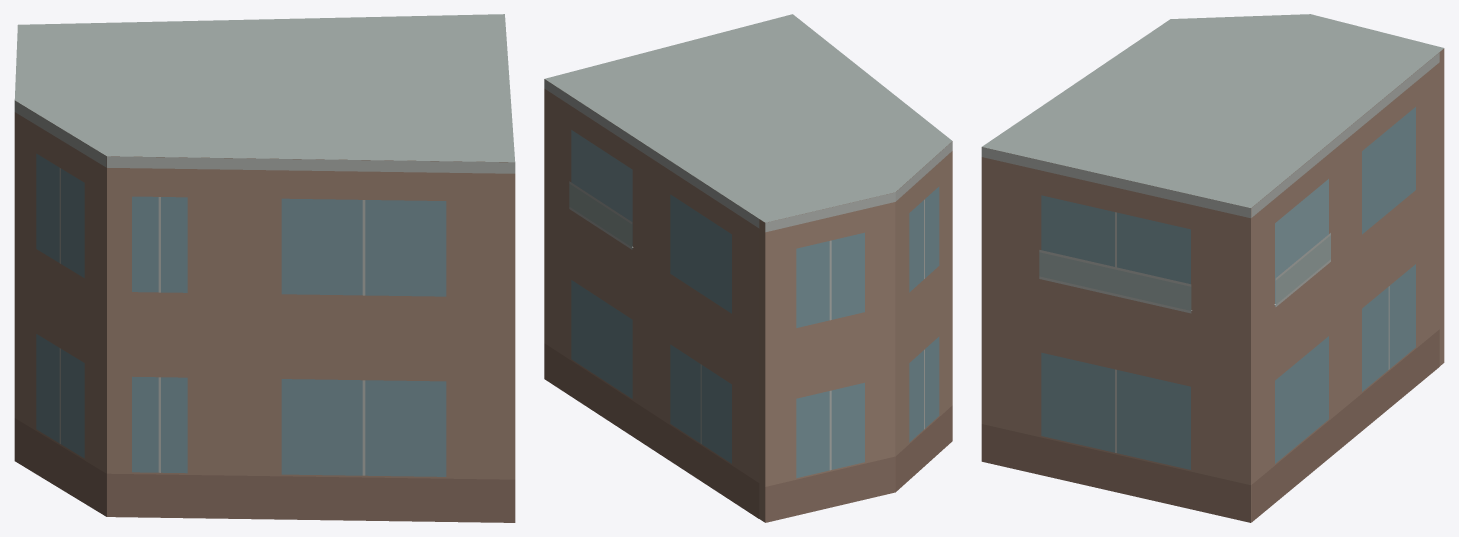
File: survey-upis-32615647.glb
3 renders of one model, left to right at view 1: azimuth 30°, elevation 25°; view 2: azimuth 150°, elevation 25°; view 3: azimuth 270°, elevation 25°, orthographic. The views are drawn at different scales.
Parts seen in each view (by area): view 1: survey-upis-32615647.tmp; view 2: survey-upis-32615647.tmp; view 3: survey-upis-32615647.tmp.
Boxes of the visible parts, left/top/right/bottom form: survey-upis-32615647.tmp: left=14, top=14, right=515, bottom=522; survey-upis-32615647.tmp: left=544, top=14, right=952, bottom=522; survey-upis-32615647.tmp: left=981, top=14, right=1444, bottom=522.
Size of the model in its own units: 10.07 by 7.6 by 10.14.
